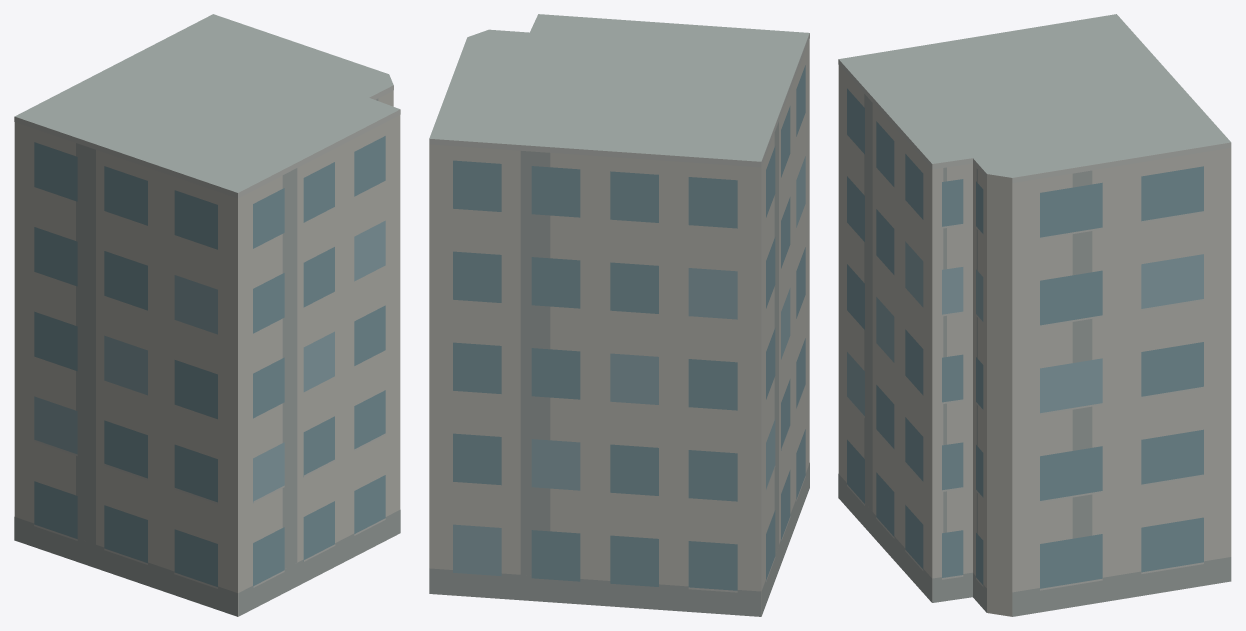
Rendered from survey-upis-32996510.glb.
The picture shows the model from 3 angles, left to right: view 1: azimuth 30°, elevation 25°; view 2: azimuth 150°, elevation 25°; view 3: azimuth 270°, elevation 25°; orthographic projection. The views are drawn at different scales.
Visible parts, largest first — view 1: survey-upis-32996510.tmp; view 2: survey-upis-32996510.tmp; view 3: survey-upis-32996510.tmp.
Boxes of the visible parts, x1,y1,x2,y2 form: survey-upis-32996510.tmp: [14, 14, 400, 616]; survey-upis-32996510.tmp: [429, 14, 809, 616]; survey-upis-32996510.tmp: [838, 14, 1231, 616].
Size of the model in its own units: 15.63 by 19.5 by 15.82.
